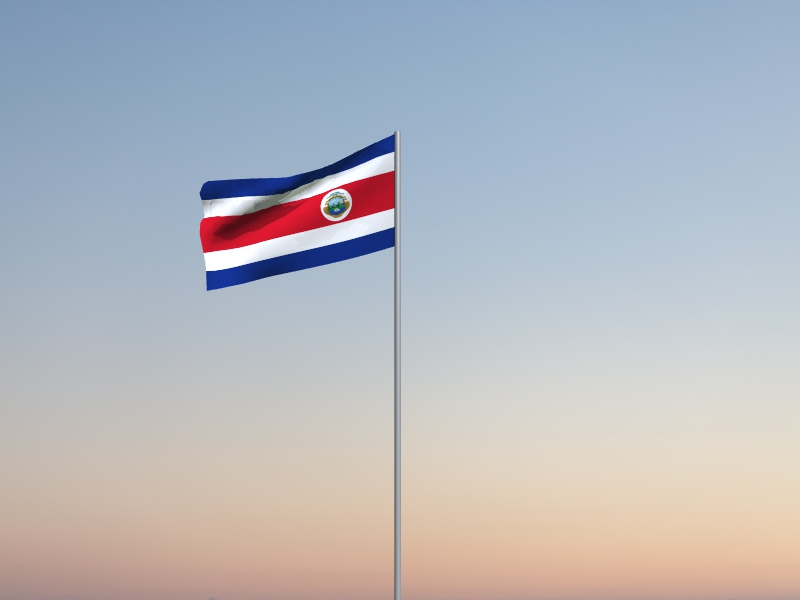cr: (199, 135, 395, 293)
